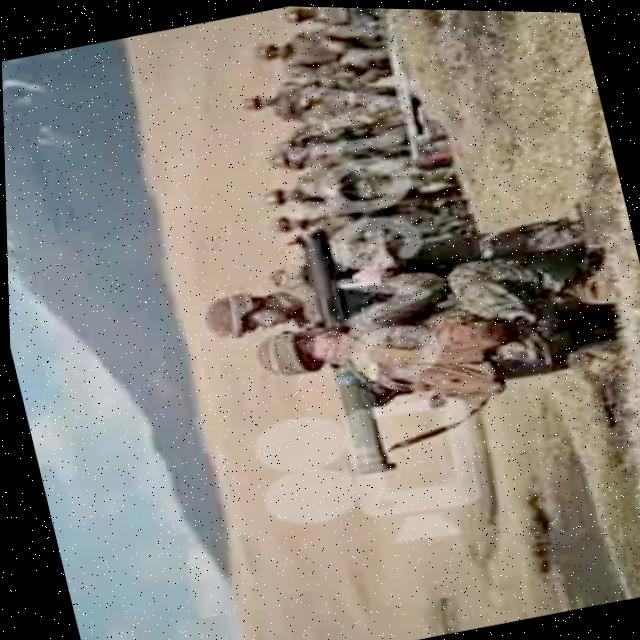rocket: (280, 213, 405, 478)
